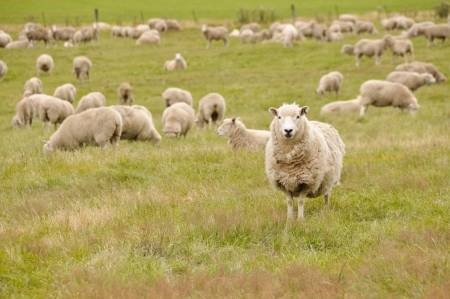sheep: (266, 100, 342, 221), (42, 106, 124, 163), (216, 111, 271, 164), (358, 79, 424, 120), (124, 104, 165, 150), (160, 100, 195, 142), (198, 88, 227, 132), (395, 65, 440, 91), (349, 36, 386, 65), (12, 93, 40, 129), (314, 67, 345, 97), (383, 33, 417, 60), (415, 24, 450, 50), (198, 22, 230, 49), (33, 51, 62, 79), (68, 53, 96, 81), (163, 51, 191, 74)
